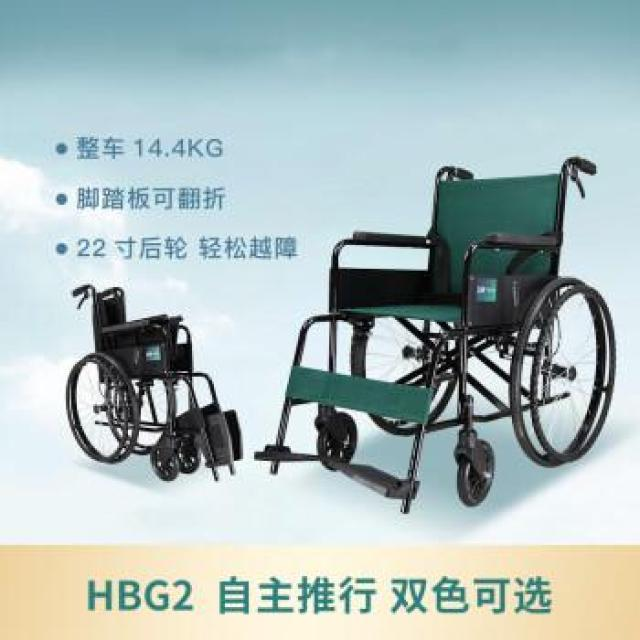wheelchairs: (253, 136, 629, 520), (49, 279, 249, 492)
